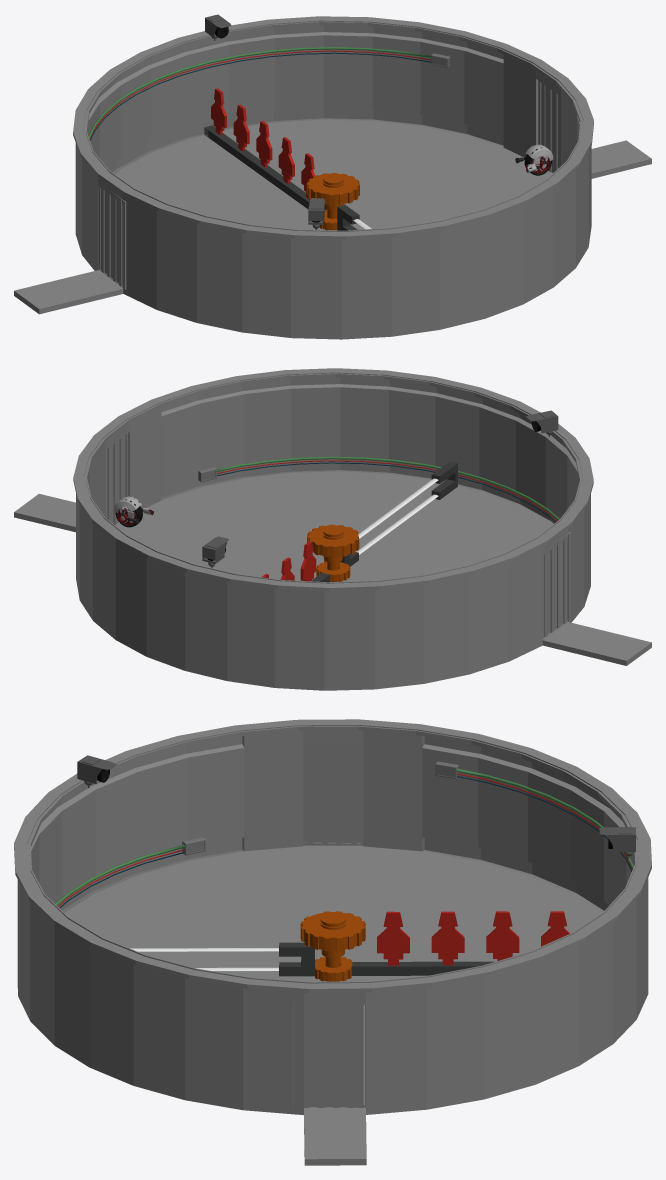
File: Level1 (1).fbx
The picture shows the model from 3 angles, top to bottom: view 1: azimuth 30°, elevation 25°; view 2: azimuth 150°, elevation 25°; view 3: azimuth 270°, elevation 25°; orthographic projection. The views are drawn at different scales.
Visible parts, largest first — view 1: Sala.001, Rueda_Cuchillas, Cables1, Dianas, Puerta1, Puerta2, engranaje, Robotin, Camara2; view 2: Sala.001, Rueda_Cuchillas, Puerta1, Cables2, Puerta2, engranaje, Robotin, Dianas, Camara1, Camara2; view 3: Sala.001, Puerta2, Puerta1, Rueda_Cuchillas, Dianas, engranaje, Cables1, Cables2, Camara1, Camara2.
Part boxes in pixels (x1,y1,x2,y2): Sala.001: (14, 16, 651, 339); Rueda_Cuchillas: (204, 125, 371, 230); Cables1: (88, 47, 450, 140); Dianas: (211, 88, 315, 199); Puerta1: (98, 186, 126, 289); Puerta2: (538, 80, 560, 173); engranaje: (306, 172, 359, 205); Robotin: (515, 144, 553, 175); Camara2: (205, 14, 231, 40); Sala.001: (14, 368, 651, 690); Rueda_Cuchillas: (312, 461, 457, 582); Puerta1: (542, 532, 570, 638); Cables2: (198, 456, 559, 522); Puerta2: (105, 433, 128, 525); engranaje: (307, 524, 359, 557); Robotin: (114, 496, 153, 527); Dianas: (261, 541, 316, 581); Camara1: (525, 410, 558, 436); Camara2: (202, 536, 228, 568); Sala.001: (14, 719, 651, 1165); Puerta2: (293, 1001, 363, 1108); Puerta1: (303, 743, 363, 844); Rueda_Cuchillas: (130, 913, 494, 981); Dianas: (377, 911, 569, 965); engranaje: (300, 911, 365, 951); Cables1: (435, 761, 633, 871); Cables2: (55, 837, 205, 907); Camara1: (77, 755, 116, 788); Camara2: (599, 827, 635, 858).
Bounding box in the file's own units: 272 × 52.69 × 200.
